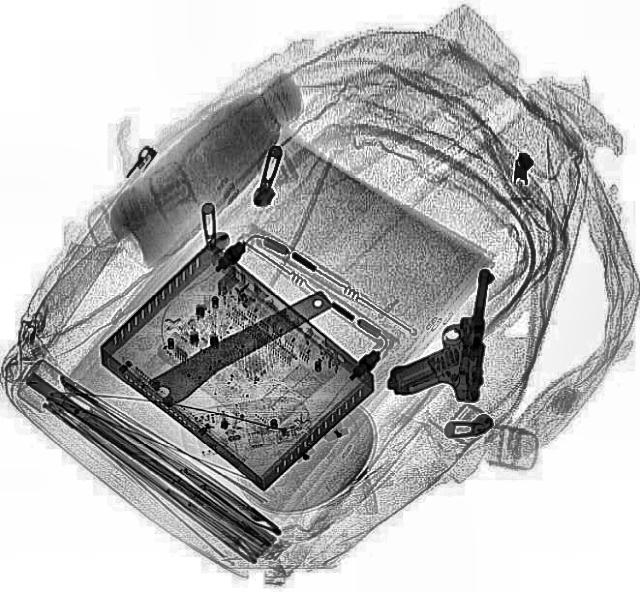Gun: (385, 260, 493, 404)
